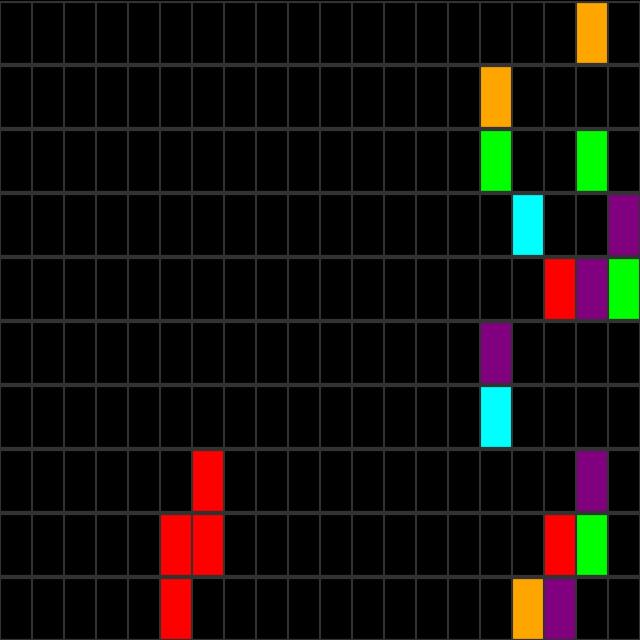Tetrimino_T: (160, 452, 223, 636)
